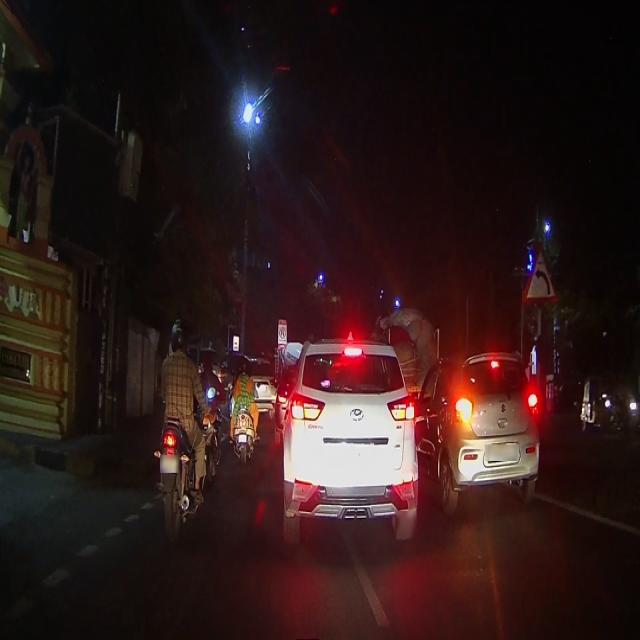left-hand-curve: (525, 246, 555, 297)
